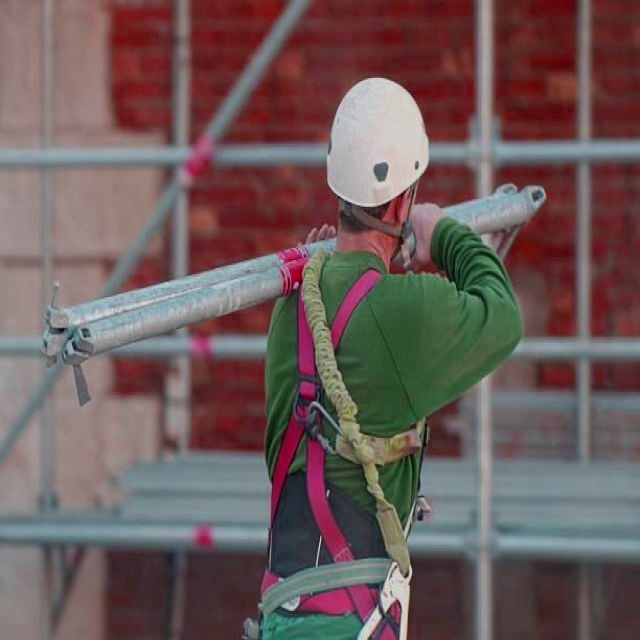safety belt: (227, 253, 448, 635)
